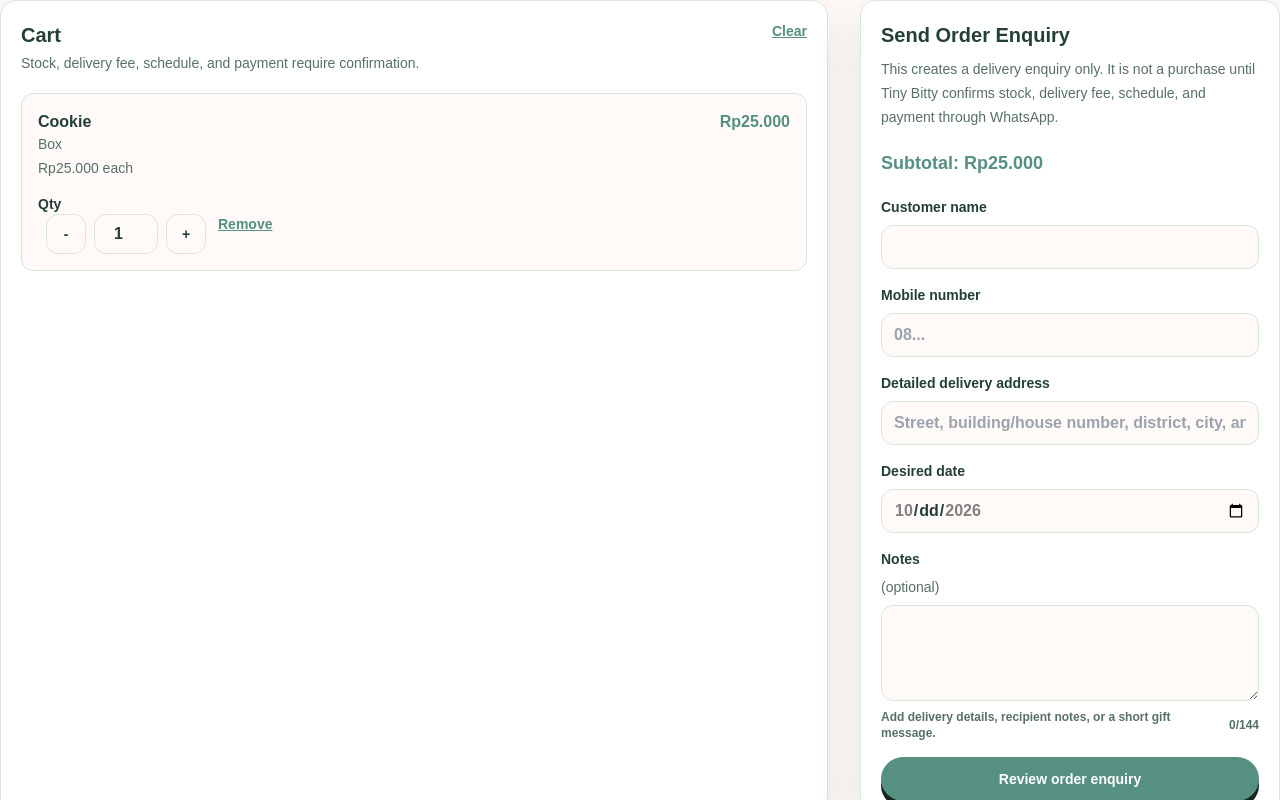
Scenario: CheckoutForm › keeps the mobile number field numeric and capped at 13 digits
Expected: the text "Cookie" is shown, 38,113 -> 91,130
Type "0812abc34567890" into the field labelled "Mobile number".
click(1070, 335); type("0812abc34567890")  # box 881,313 -> 1259,357
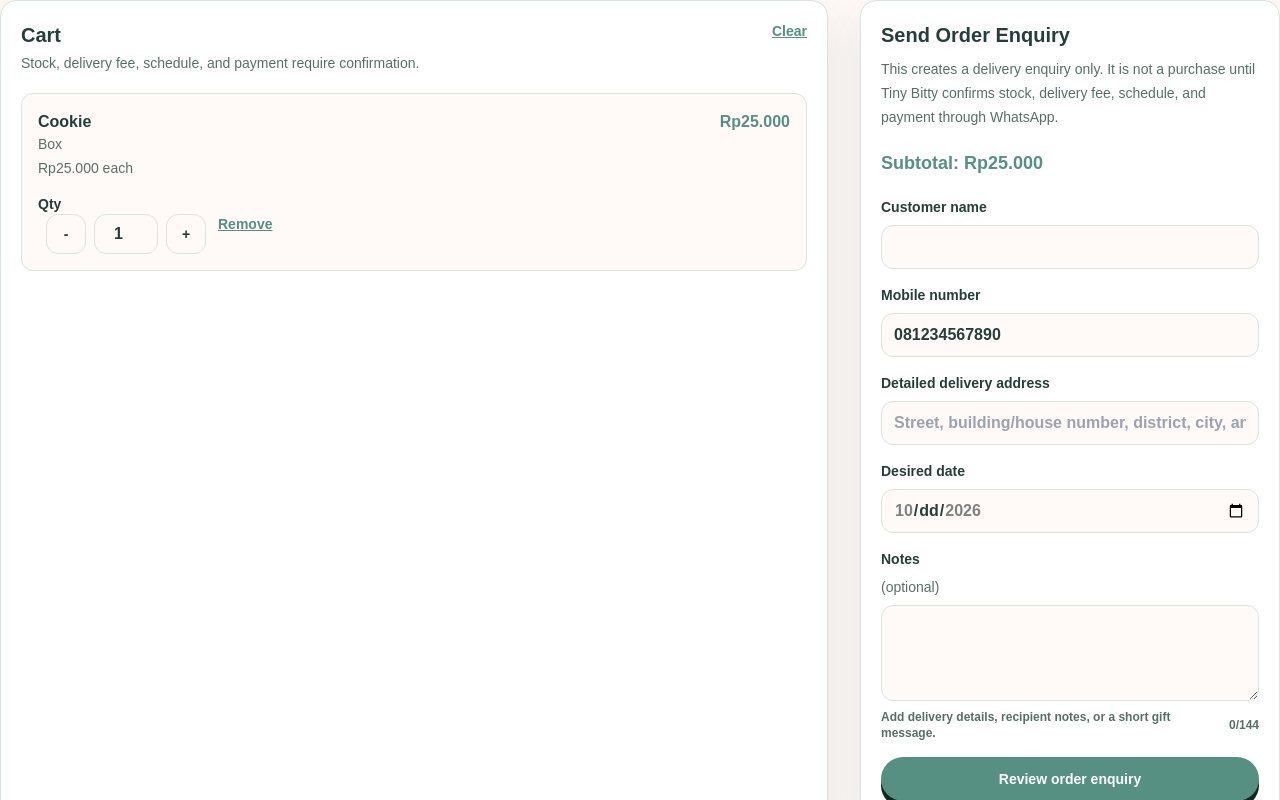
Expected: the field labelled "Mobile number" holds "081234567890"
Replace the text in the field labelled "Mobile number" with "0812345678901234567890" at (1070, 335), box 881,313 -> 1259,357
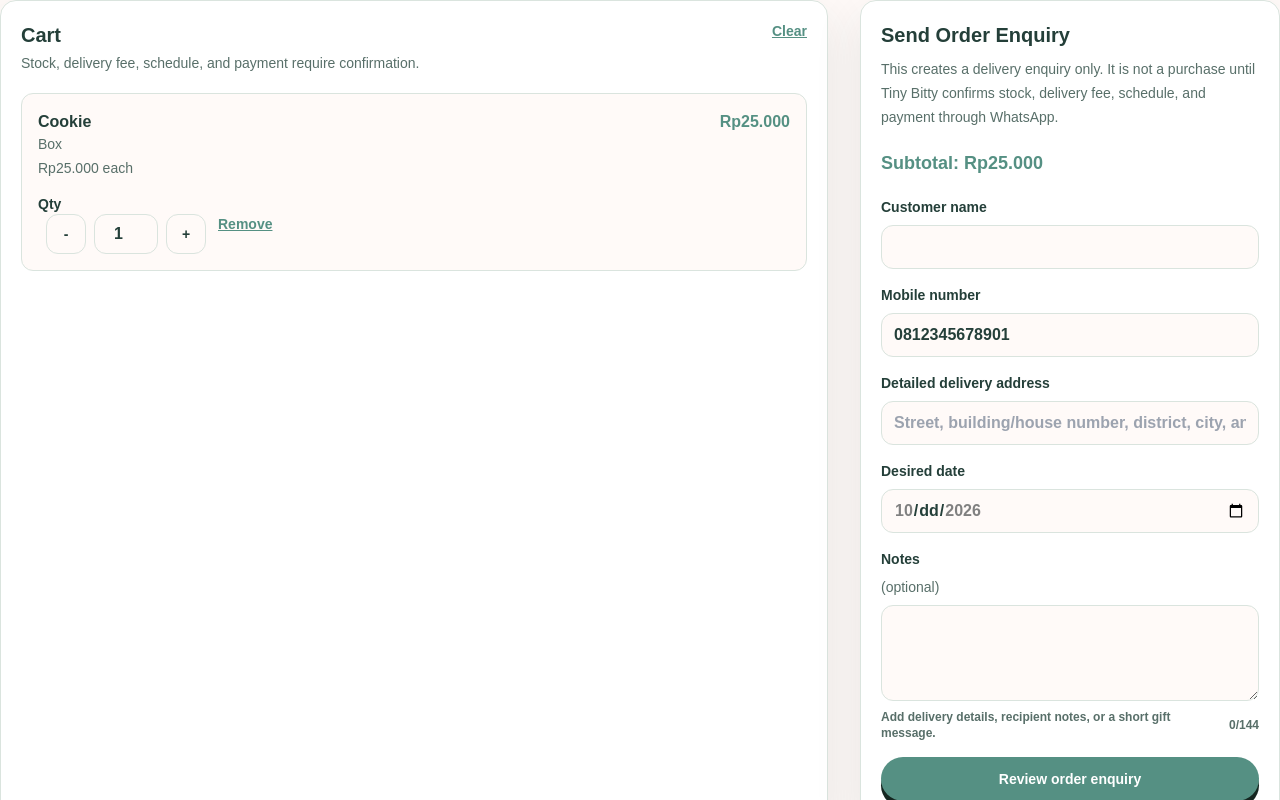
Expected: the field labelled "Mobile number" holds "0812345678901", 881,313 -> 1259,357
